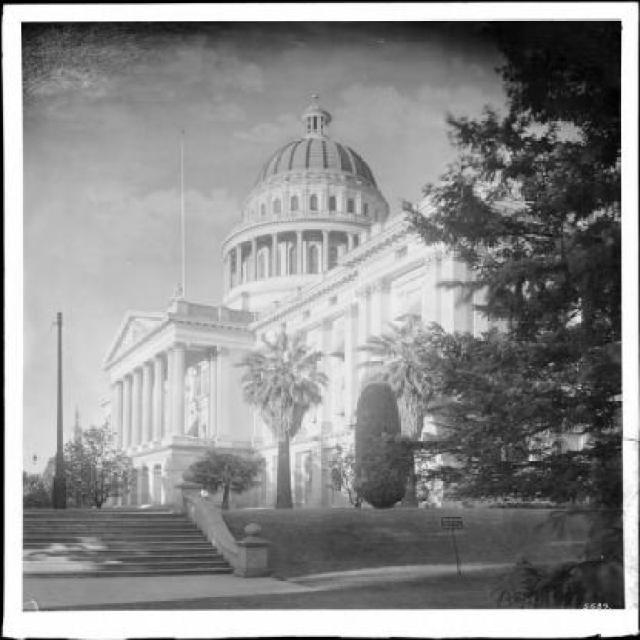stair: (20, 508, 234, 576)
